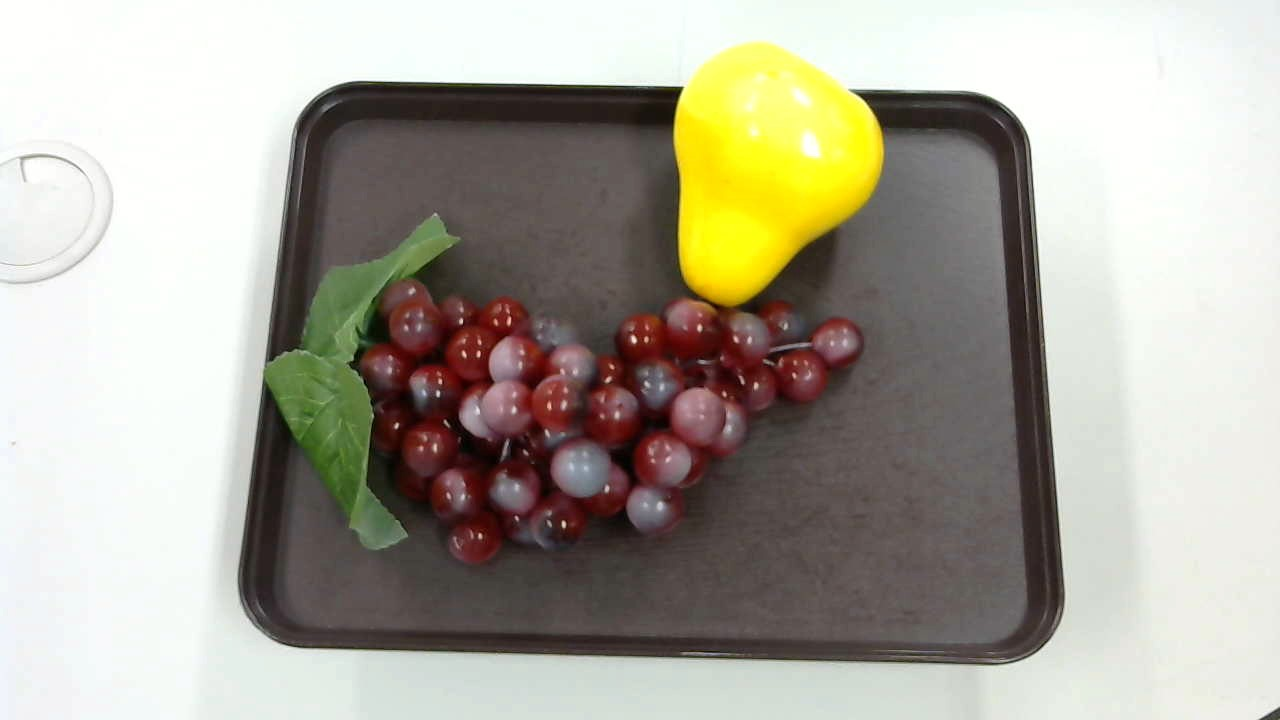grape: (269, 220, 885, 558)
yellow pear: (671, 41, 885, 308)
